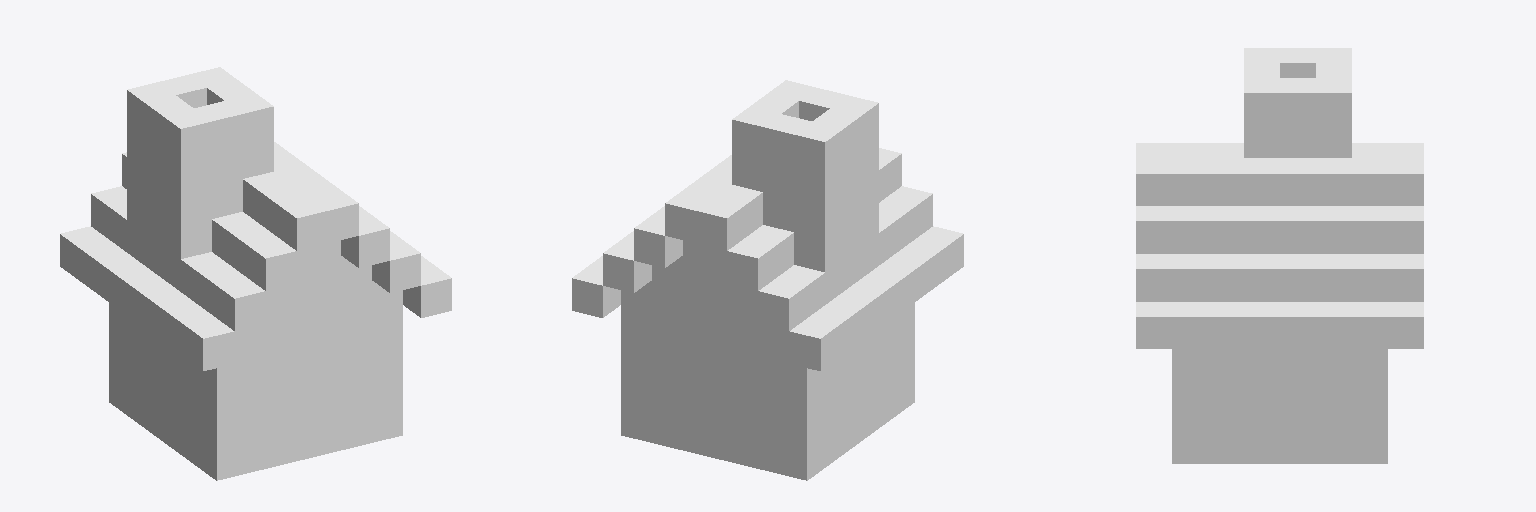
Rendered from JungleHouse.obj.
3 renders of one model, left to right at view 1: azimuth 30°, elevation 25°; view 2: azimuth 150°, elevation 25°; view 3: azimuth 270°, elevation 25°, orthographic.
Bounding box in the file's own units: 8 × 10 × 8.